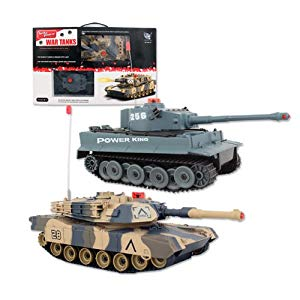Battle Tank: (77, 101, 281, 185), (40, 191, 224, 274)
